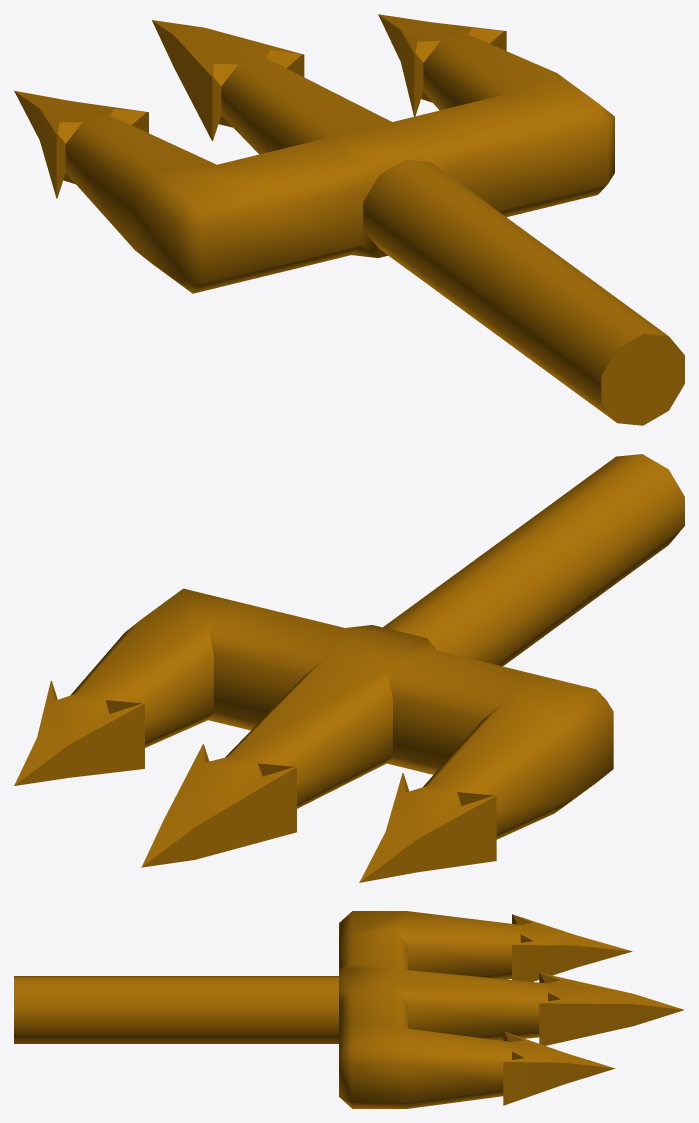
Rendered from trident_basic_gold.glb.
The picture shows the model from 3 angles, top to bottom: view 1: azimuth 30°, elevation 25°; view 2: azimuth 150°, elevation 25°; view 3: azimuth 270°, elevation 25°; orthographic projection. The views are drawn at different scales.
Parts seen in each view (by area): view 1: 0.134; view 2: 0.134; view 3: 0.134.
Boxes of the visible parts, x1,y1,x2,y2 form: 0.134: (14, 14, 684, 425); 0.134: (14, 454, 684, 882); 0.134: (14, 911, 683, 1108).
Bounding box in the file's own units: 0.202 × 0.0408 × 0.3877.
